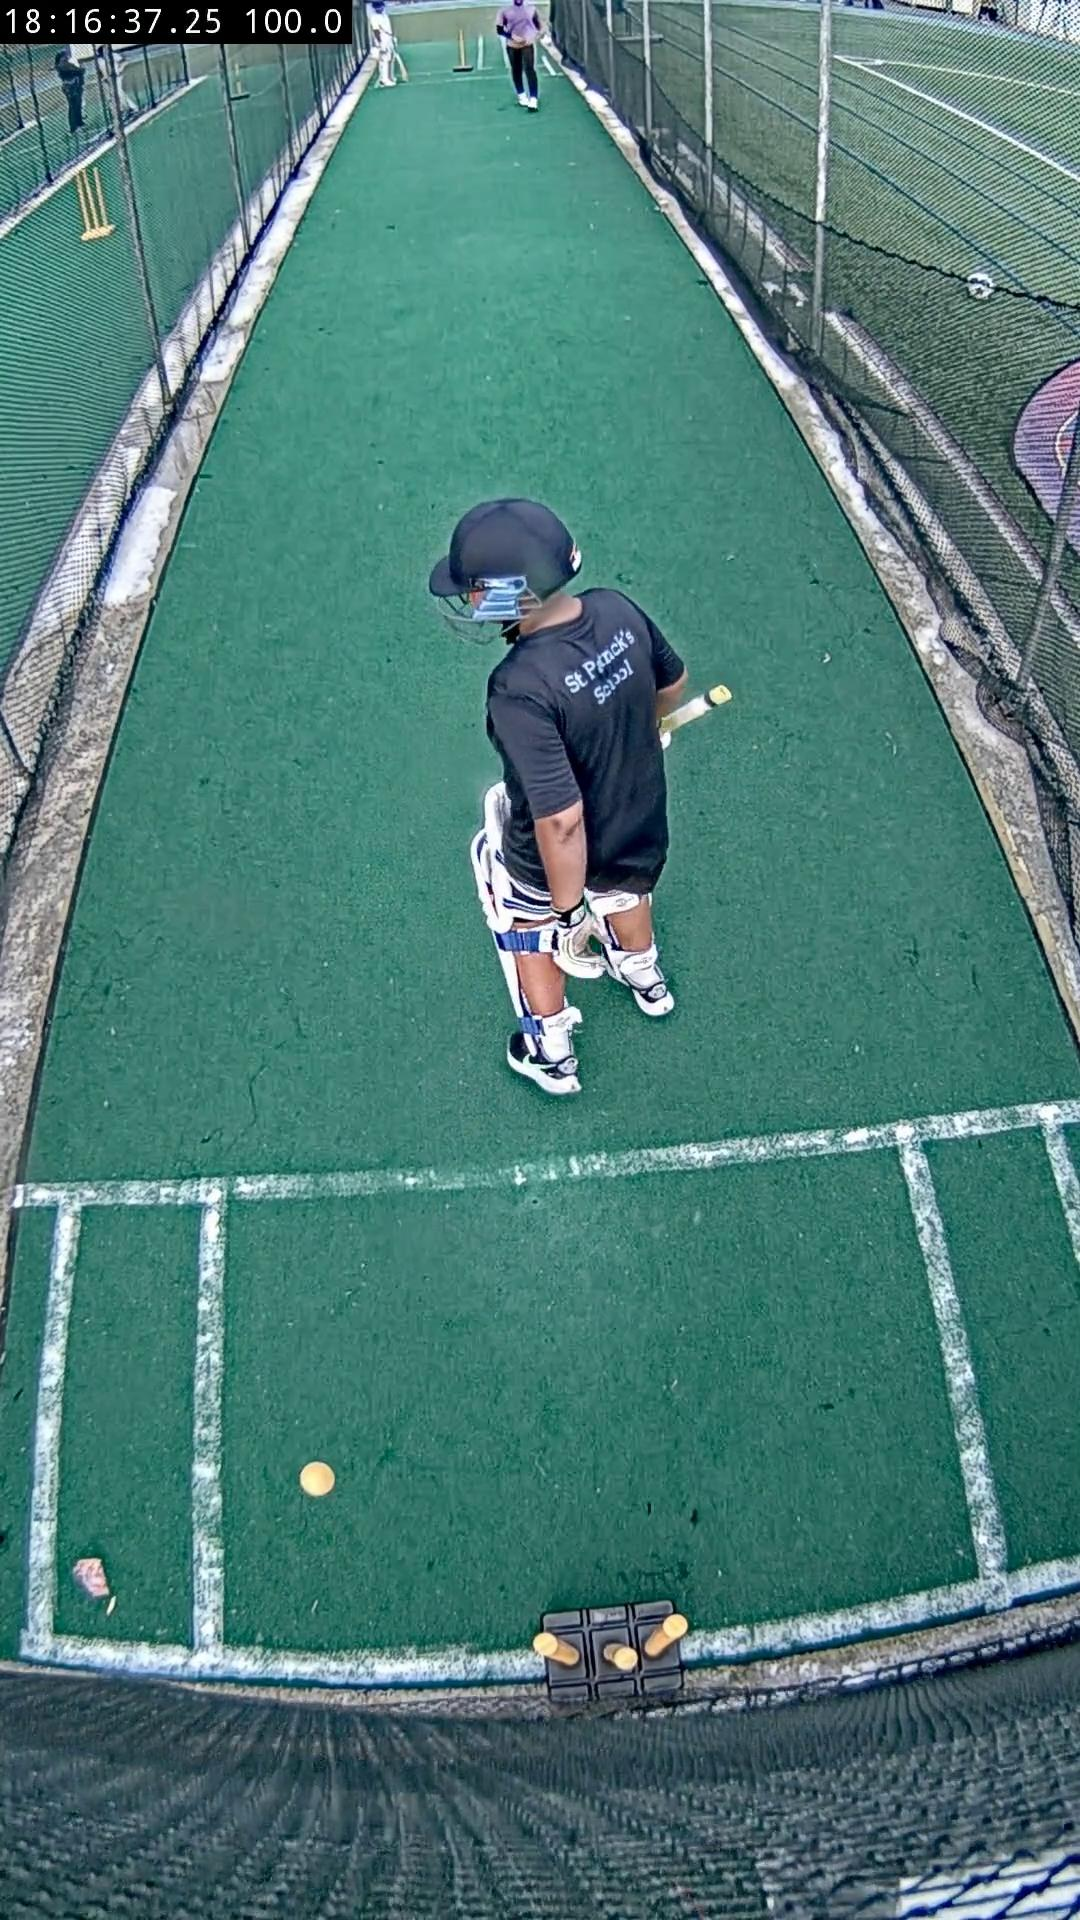ball: (301, 1462, 334, 1497)
gloves: (543, 899, 608, 978)
helmet: (427, 498, 578, 600)
stumps: (537, 1601, 686, 1702)
